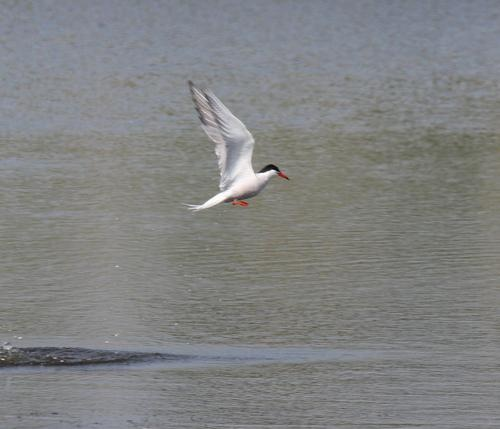bird: (182, 77, 291, 213)
